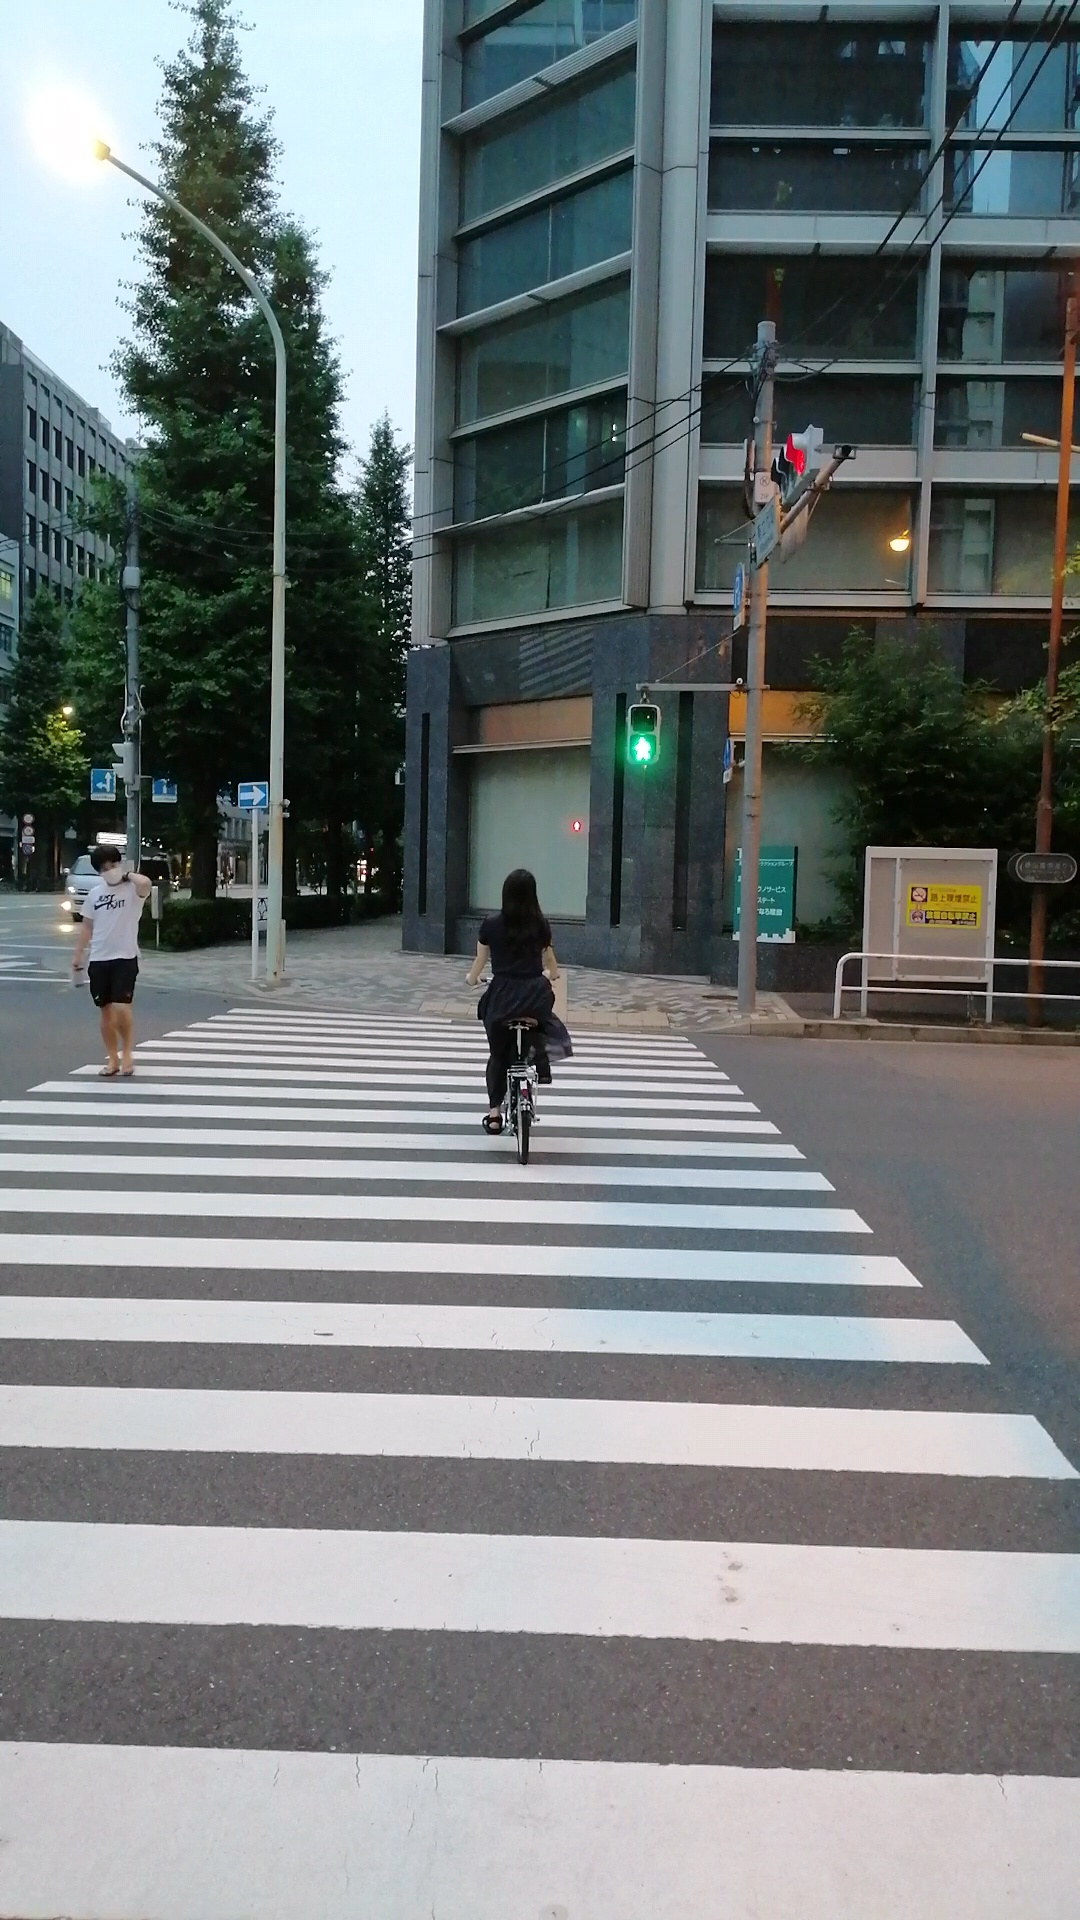green: (625, 703, 659, 762)
